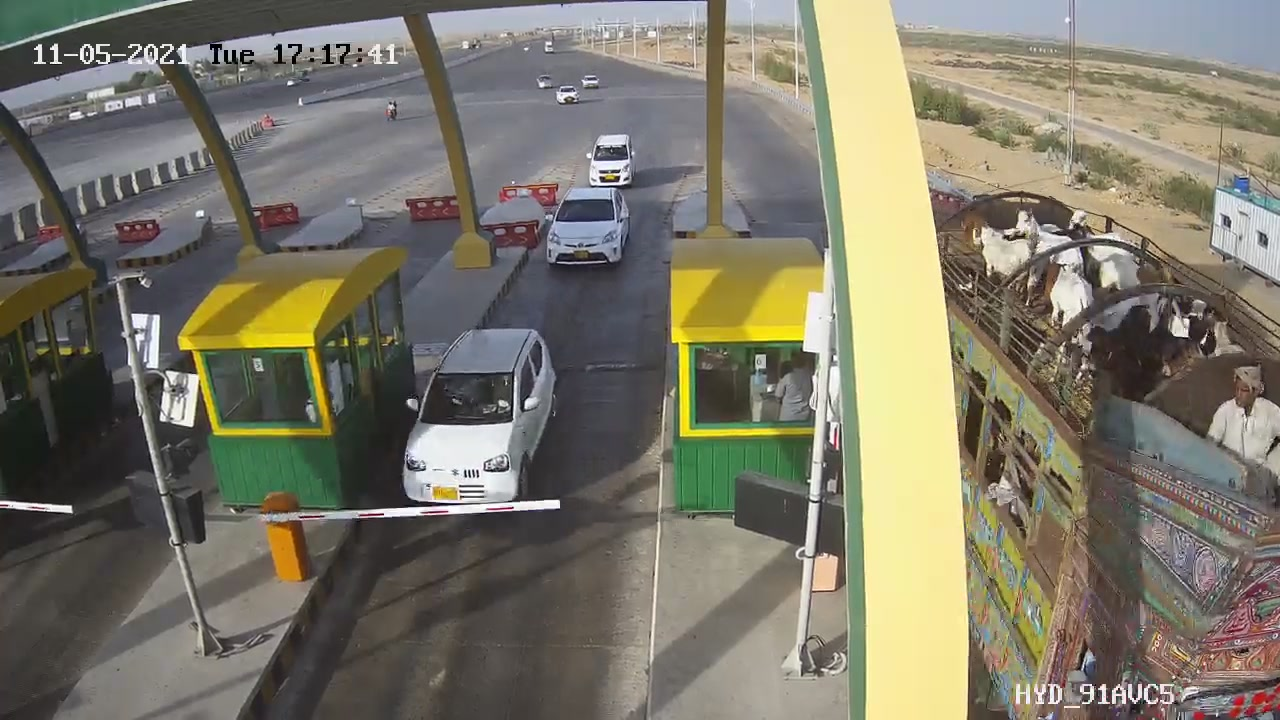F1: (378, 313, 577, 521), (534, 179, 643, 279)
